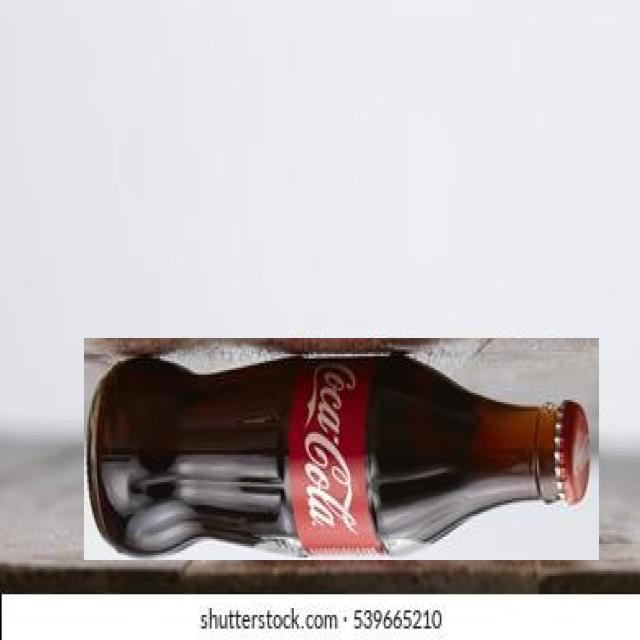coca-cola: (84, 338, 599, 560)
